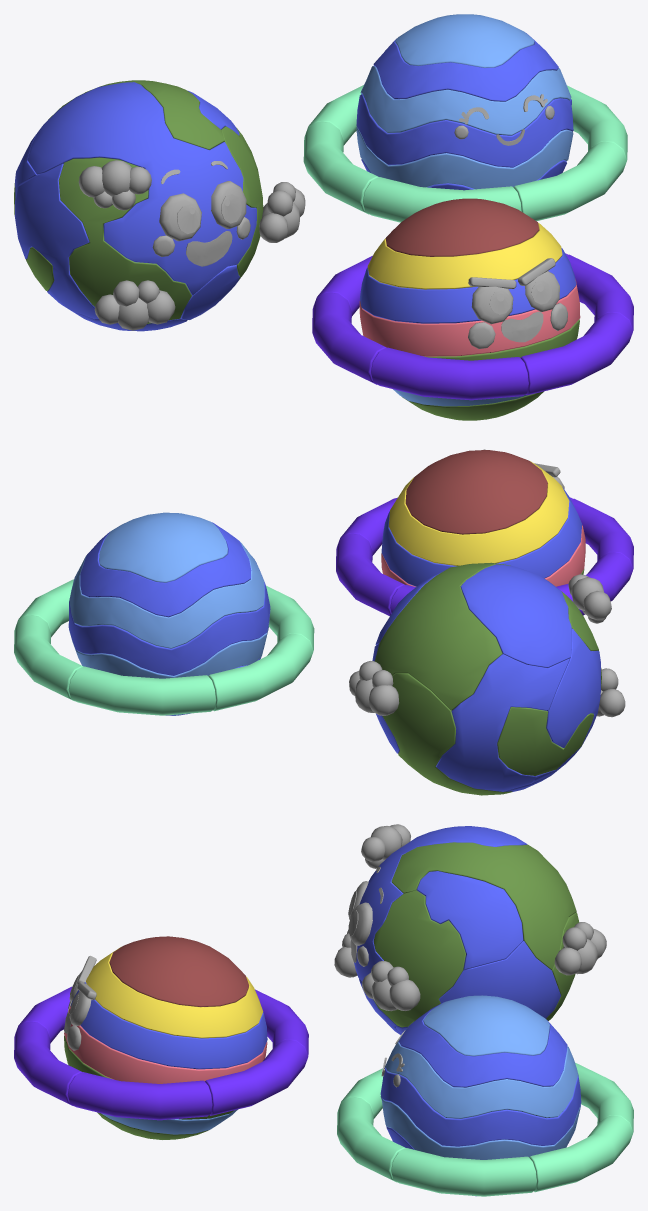
The model's file is PlanetPals.fbx.
The picture shows the model from 3 angles, top to bottom: view 1: azimuth 30°, elevation 25°; view 2: azimuth 150°, elevation 25°; view 3: azimuth 270°, elevation 25°; orthographic projection. The views are drawn at different scales.
Parts seen in each view (by area): view 1: S_Planet, M_Planet, D_Planet_31, D_Planet_27, D_Planet_19, D_Planet_30, D_Planet_22, D_Planet_20, D_Planet_16; view 2: S_Planet, M_Planet; view 3: S_Planet, M_Planet, D_Planet_30.
Boxes of the visible parts, left/top/right/bottom form: S_Planet: left=14, top=14, right=632, bottom=420; M_Planet: left=303, top=85, right=633, bottom=400; D_Planet_31: left=159, top=193, right=201, bottom=241; D_Planet_27: left=186, top=231, right=232, bottom=266; D_Planet_19: left=471, top=286, right=513, bottom=324; D_Planet_30: left=211, top=181, right=246, bottom=228; D_Planet_22: left=501, top=311, right=543, bottom=342; D_Planet_20: left=525, top=271, right=559, bottom=311; D_Planet_16: left=468, top=322, right=495, bottom=348; S_Planet: left=68, top=450, right=625, bottom=795; M_Planet: left=14, top=497, right=633, bottom=715; S_Planet: left=14, top=824, right=606, bottom=1196; M_Planet: left=15, top=986, right=633, bottom=1196; D_Planet_30: left=349, top=902, right=372, bottom=945.
Bounding box in the file's own units: 740 × 286 × 735.
